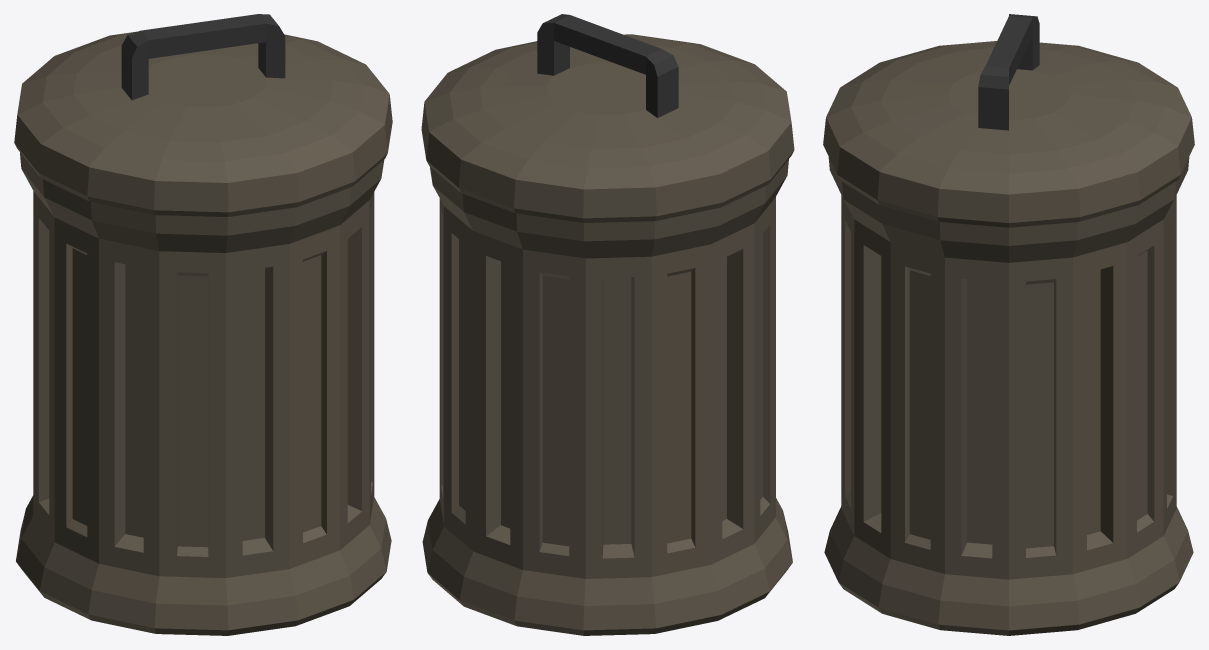
Rendered from garbagecan_2_partyassets.fbx.
The picture shows the model from 3 angles, left to right: view 1: azimuth 30°, elevation 25°; view 2: azimuth 150°, elevation 25°; view 3: azimuth 270°, elevation 25°; orthographic projection. The views are drawn at different scales.
Visible parts, largest first — view 1: garbagecan_2_partyassets, Cube.153; view 2: garbagecan_2_partyassets, Cube.153; view 3: garbagecan_2_partyassets, Cube.153.
Boxes of the visible parts, left/top/right/bottom form: garbagecan_2_partyassets: left=14, top=31, right=392, bottom=635; Cube.153: left=121, top=14, right=285, bottom=100; garbagecan_2_partyassets: left=421, top=34, right=794, bottom=635; Cube.153: left=537, top=14, right=678, bottom=117; garbagecan_2_partyassets: left=823, top=41, right=1194, bottom=635; Cube.153: left=978, top=14, right=1039, bottom=130.
Size of the model in its own units: 53.72 by 82.59 by 53.72.
